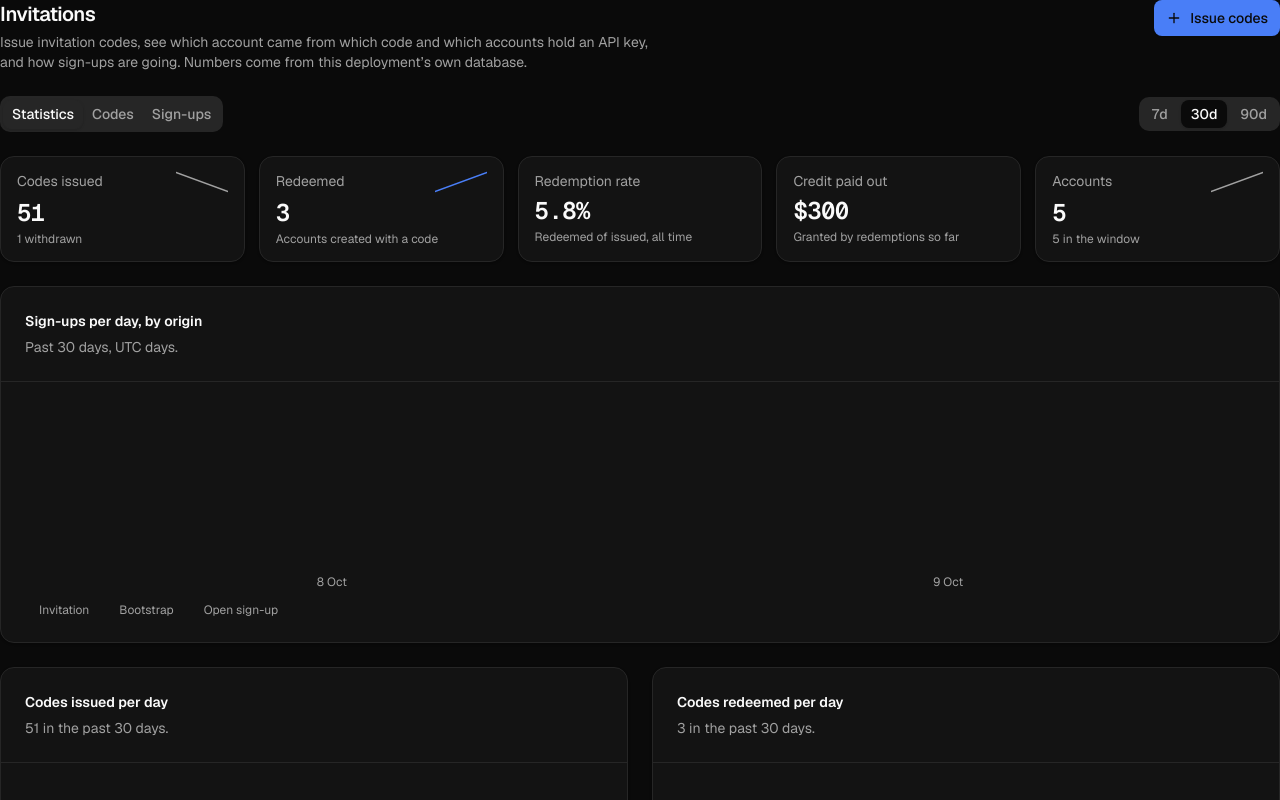
Test: the Invitations section, on who holds an API key › counts each account’s keys and when one was last used, and nothing more
Click the tab "Sign-ups".
click(182, 114)  # box [143,100,220,128]
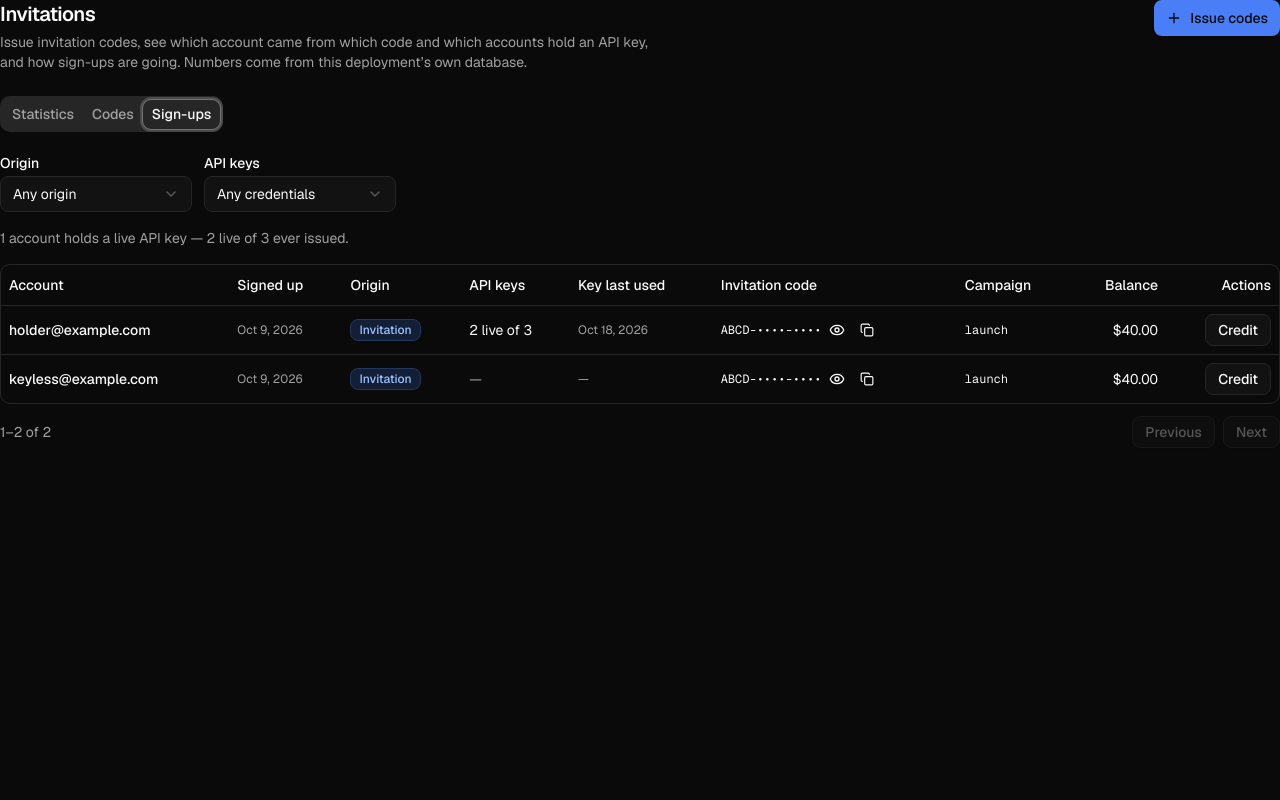
Expected: the row "holder@example.com" does not show "sk-tee", [1,305,1279,354]
Now the row "holder@example.com" shows "2 live of 3", box [469,320,532,338]
Now the row "holder@example.com" shows "Oct 18, 2026", box [578,322,648,338]
